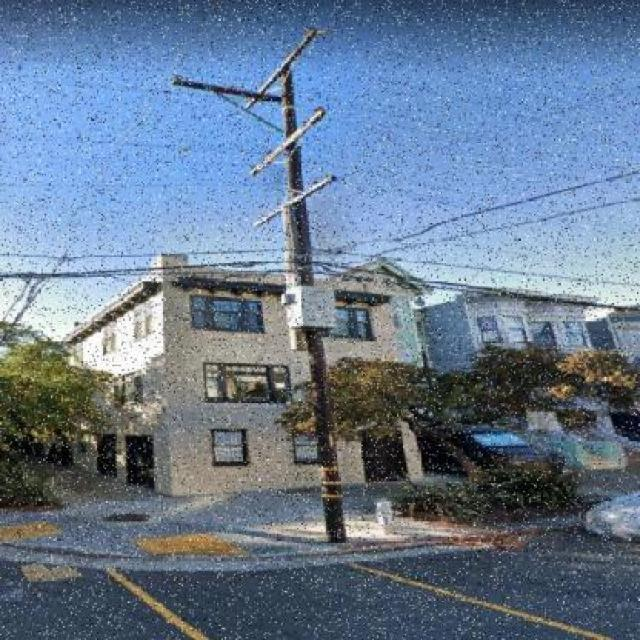pole: (128, 14, 420, 568)
